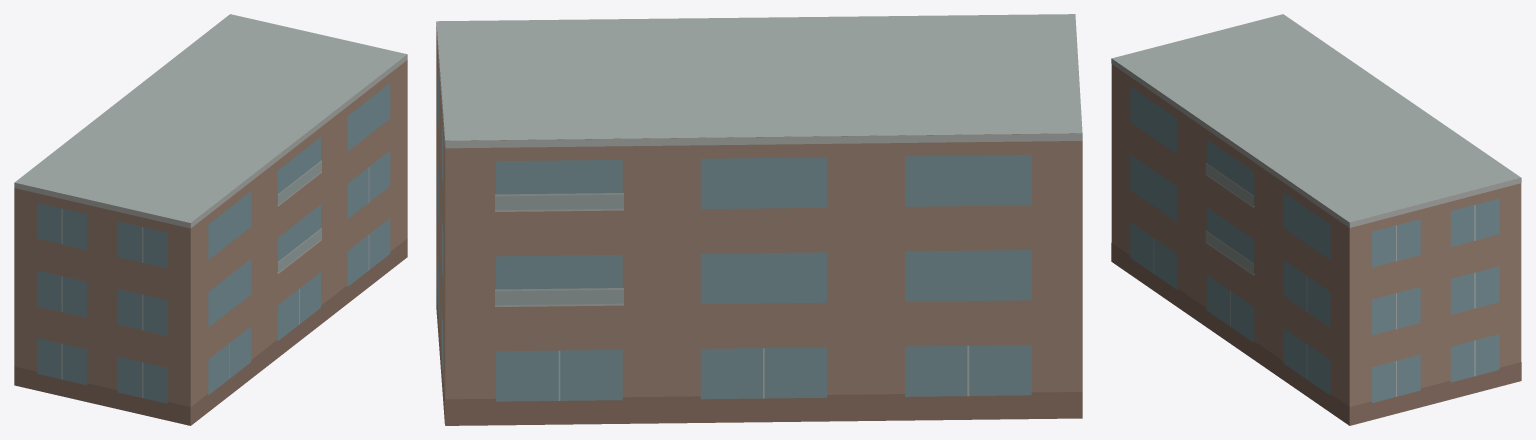
The model's file is survey-upis-32773213.glb.
The picture shows the model from 3 angles, left to right: view 1: azimuth 30°, elevation 25°; view 2: azimuth 150°, elevation 25°; view 3: azimuth 270°, elevation 25°; orthographic projection. The views are drawn at different scales.
Visible parts, largest first — view 1: survey-upis-32773213.tmp; view 2: survey-upis-32773213.tmp; view 3: survey-upis-32773213.tmp.
Boxes of the visible parts, x1=… form: survey-upis-32773213.tmp: x1=14, y1=14, x2=407, y2=425; survey-upis-32773213.tmp: x1=436, y1=14, x2=1082, y2=425; survey-upis-32773213.tmp: x1=1111, y1=14, x2=1521, y2=425.
Size of the model in its own units: 20.15 by 9.15 by 16.73.
